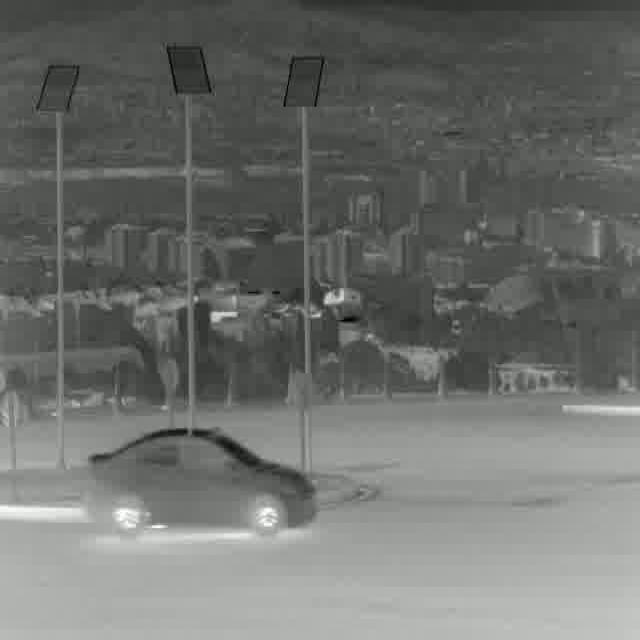Car: (86, 428, 320, 536)
